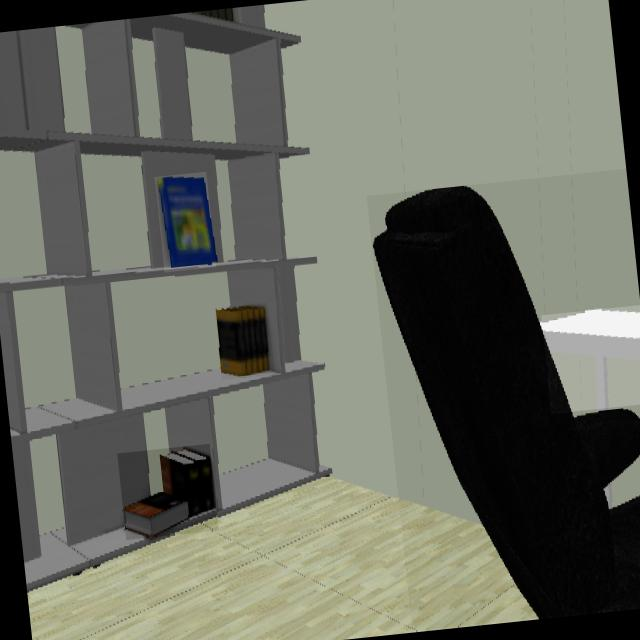book: (123, 447, 216, 536), (155, 176, 215, 268), (215, 305, 272, 378)
chair: (372, 187, 640, 618)
table: (543, 311, 640, 408)
